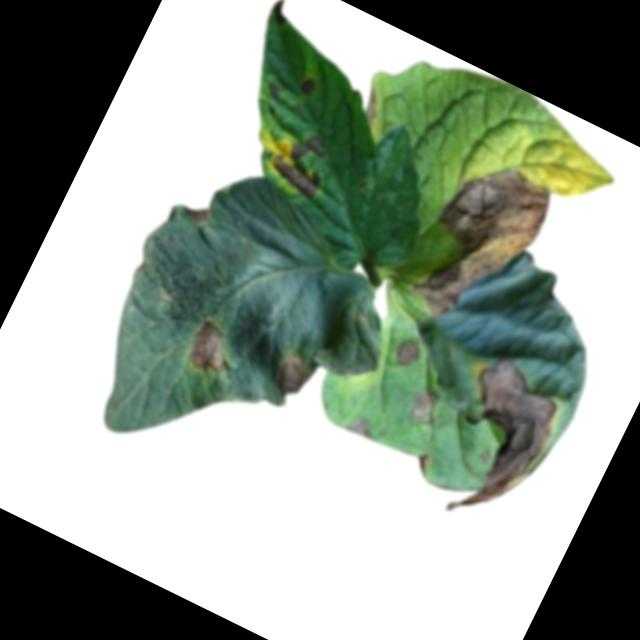Early_blight: (404, 151, 561, 346), (419, 351, 574, 540), (262, 121, 342, 205), (180, 316, 241, 381), (264, 345, 316, 404), (405, 385, 447, 431), (355, 87, 386, 129), (389, 334, 422, 372), (177, 199, 213, 232), (344, 413, 379, 444), (265, 1, 293, 27), (295, 71, 319, 99), (411, 450, 434, 474), (263, 81, 284, 100)
